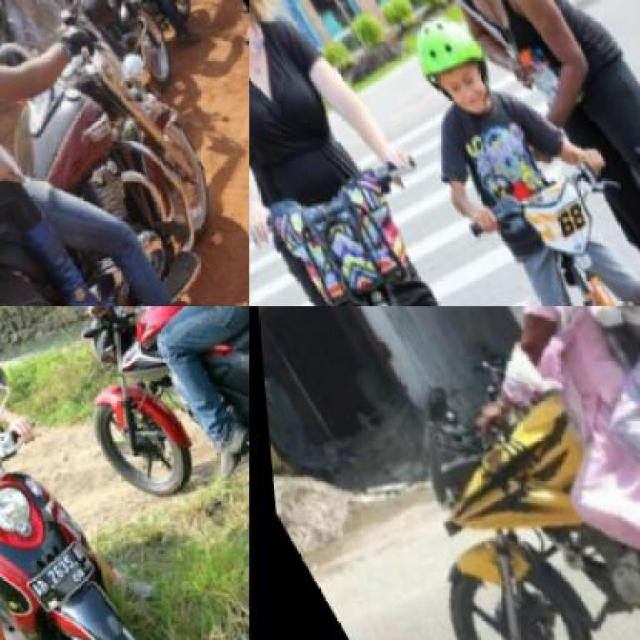With Helmet: (388, 1, 508, 142)
